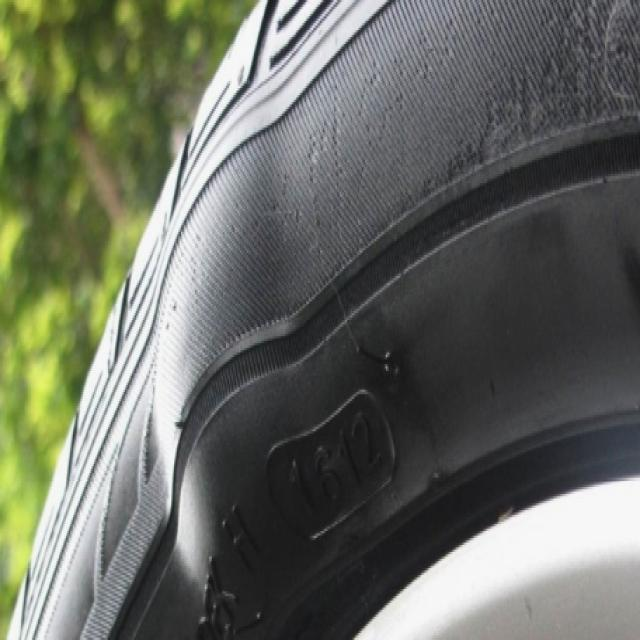Bulge: (138, 86, 360, 638)
